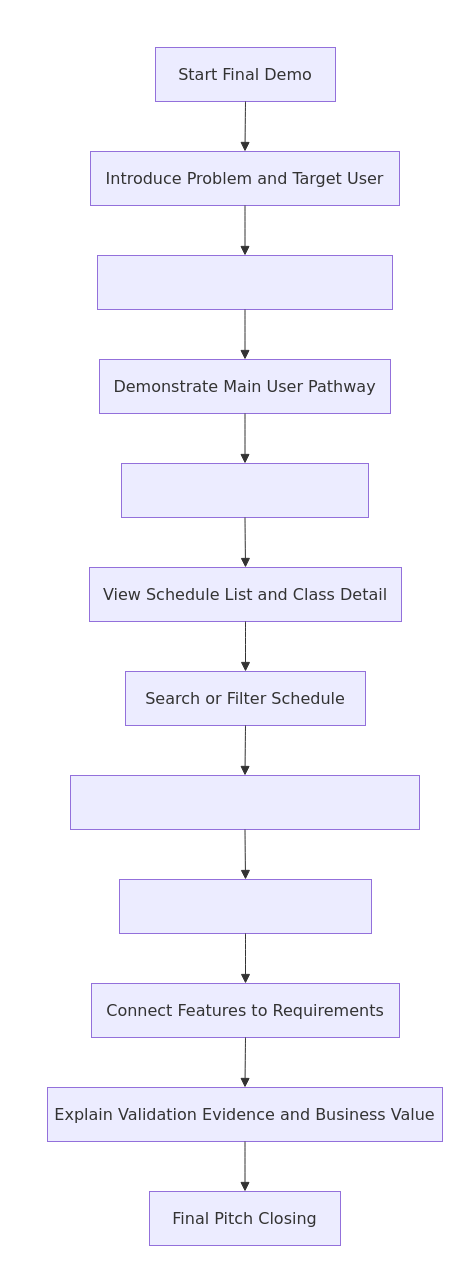
Image size: 460x1263. Some labels were removed from this diagram. The centre of each missing label's shape, as x and y in pixels:
Open Homepage or Landing Page: the point at 244,282
Show Dashboard or Metrics: the point at 245,906
Show Status Update and Admin Function: the point at 245,802
Submit a Mismatch Report: the point at 244,490
